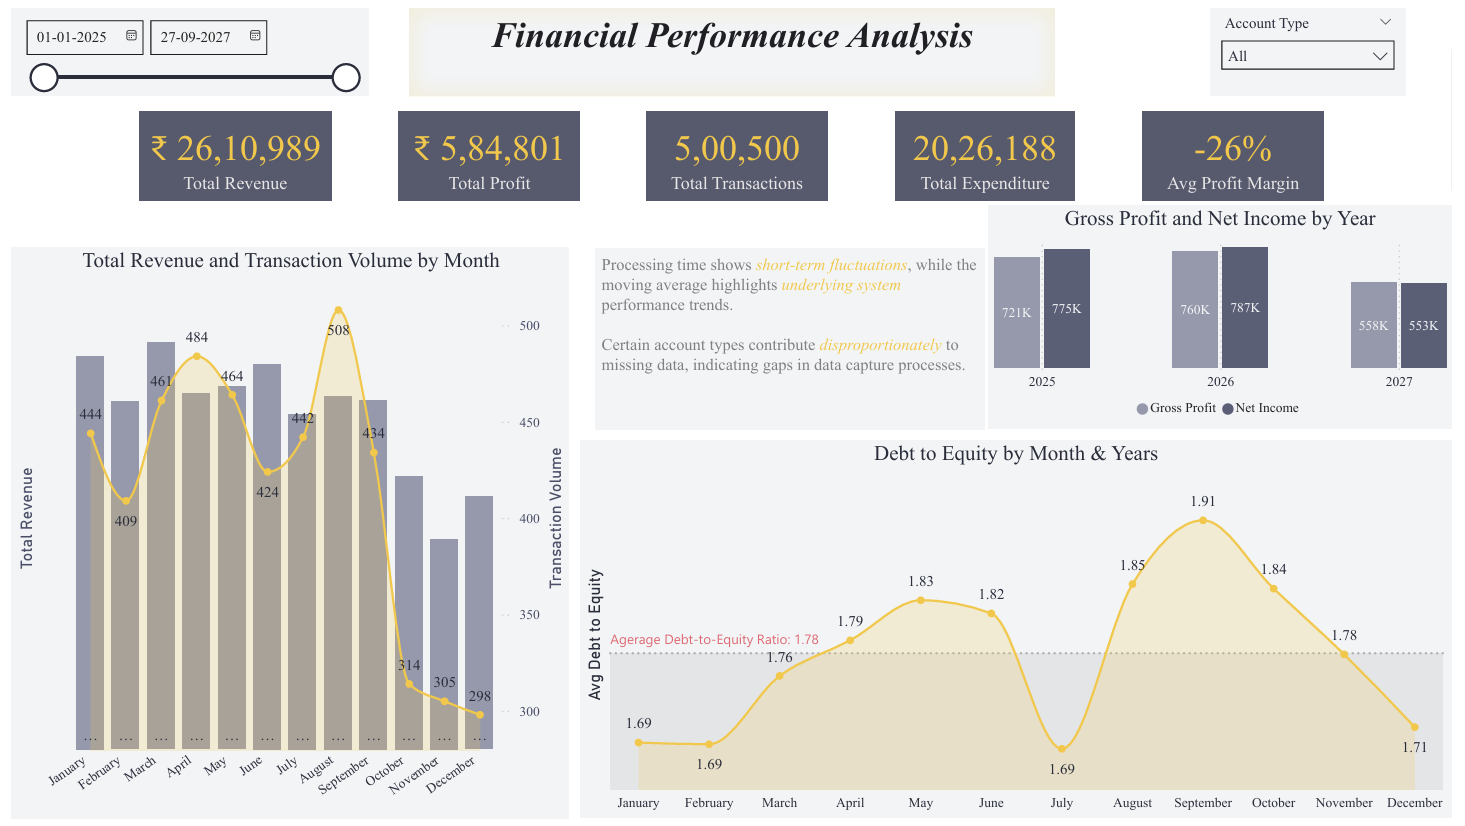

What the dashboard file says about the page in this screenshot:
{"tool":"powerbi","page":{"name":"FINANCIAL ANALYSIS","canvas":[1280,720],"ordinal":1},"visuals":[{"type":"slicer","fields":{"Values":["accounting_data.Account Type"]},"box":[1065.1,0,173.9,78.4],"z":0,"group":"g1"},{"type":"card","fields":{"Values":["accounting_data.Total Revenue"]},"box":[113.2,90.8,171.2,79.6],"z":0,"group":"g2"},{"type":"slicer","fields":{"Values":["accounting_data.Date"]},"box":[0,0,317.9,78.4],"z":1000,"group":"g1"},{"type":"card","fields":{"Values":["accounting_data.Total Profit"]},"box":[344.3,90.8,160.4,79.6],"z":1000,"group":"g2"},{"type":"textbox","box":[352.8,0,574.4,78.4],"z":2000,"group":"g1"},{"type":"card","fields":{"Values":["accounting_data.Total Transactions"]},"box":[564.7,90.8,160.4,79.6],"z":2000,"group":"g2"},{"type":"clusteredColumnChart","fields":{"Y":["Sum(accounting_data.Gross Profit)","Sum(accounting_data.Net Income)"],"Category":["accounting_data.Date.Variation.Date Hierarchy.Year","accounting_data.Date.Variation.Date Hierarchy.Month"]},"box":[868.2,174.7,411.8,198.8],"z":2000},{"type":"card","fields":{"Values":["accounting_data.Total Expenditure"]},"box":[785,90.8,160.4,79.6],"z":3000,"group":"g2"},{"type":"lineClusteredColumnComboChart","fields":{"Y":["accounting_data.Total Revenue"],"Y2":["Sum(accounting_data.Transaction Volume)"],"Category":["accounting_data.Date.Variation.Date Hierarchy.Year","accounting_data.Date.Variation.Date Hierarchy.Month"]},"box":[0,212.2,495.6,507.8],"z":3000},{"type":"card","fields":{"Values":["accounting_data.Avg Profit Margin"]},"box":[1005.4,90.8,160.4,79.6],"z":4000,"group":"g2"},{"type":"lineChart","title":"Debt to Equity by Month & Years","fields":{"Y":["accounting_data.Avg Debt to Equity"],"Category":["accounting_data.Date.Variation.Date Hierarchy.Year","accounting_data.Date.Variation.Date Hierarchy.Quarter","accounting_data.Date.Variation.Date Hierarchy.Month"]},"box":[505,384.4,775,335.9],"z":7000},{"type":"group","id":"g1","title":"Group 1","box":[0,0,1238.9,78.4],"z":7001},{"type":"group","id":"g2","title":"Group 2","box":[113.2,90.8,1053.6,79.6],"z":7002},{"type":"textbox","box":[518.8,212.5,346.2,161.2],"z":7003}]}

Visuals, with their boxes in screenshot pixels (x1, y1, x2, y2), scaled from the page's 1280x720 canvas onto the 1465x826 screenshot:
slicer - accounting_data.Account Type: select_region(1219, 0, 1418, 90)
card - accounting_data.Total Revenue: select_region(130, 104, 326, 195)
slicer - accounting_data.Date: select_region(0, 0, 364, 90)
card - accounting_data.Total Profit: select_region(394, 104, 578, 195)
textbox: select_region(404, 0, 1061, 90)
card - accounting_data.Total Transactions: select_region(646, 104, 830, 195)
clusteredColumnChart - Sum(accounting_data.Gross Profit) x Sum(accounting_data.Net Income): select_region(994, 200, 1464, 428)
card - accounting_data.Total Expenditure: select_region(898, 104, 1082, 195)
lineClusteredColumnComboChart - accounting_data.Total Revenue x Sum(accounting_data.Transaction Volume): select_region(0, 243, 567, 825)
card - accounting_data.Avg Profit Margin: select_region(1151, 104, 1334, 195)
"Debt to Equity by Month & Years" lineChart: select_region(578, 441, 1464, 825)
"Group 1" group: select_region(0, 0, 1418, 90)
"Group 2" group: select_region(130, 104, 1335, 195)
textbox: select_region(594, 244, 990, 429)
